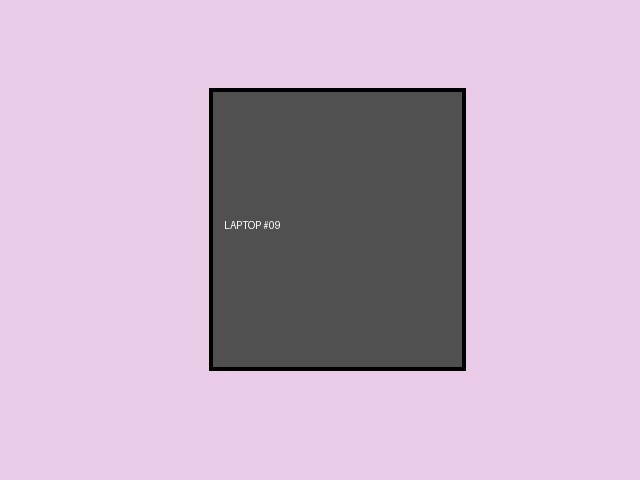laptop: (209, 88, 465, 370)
